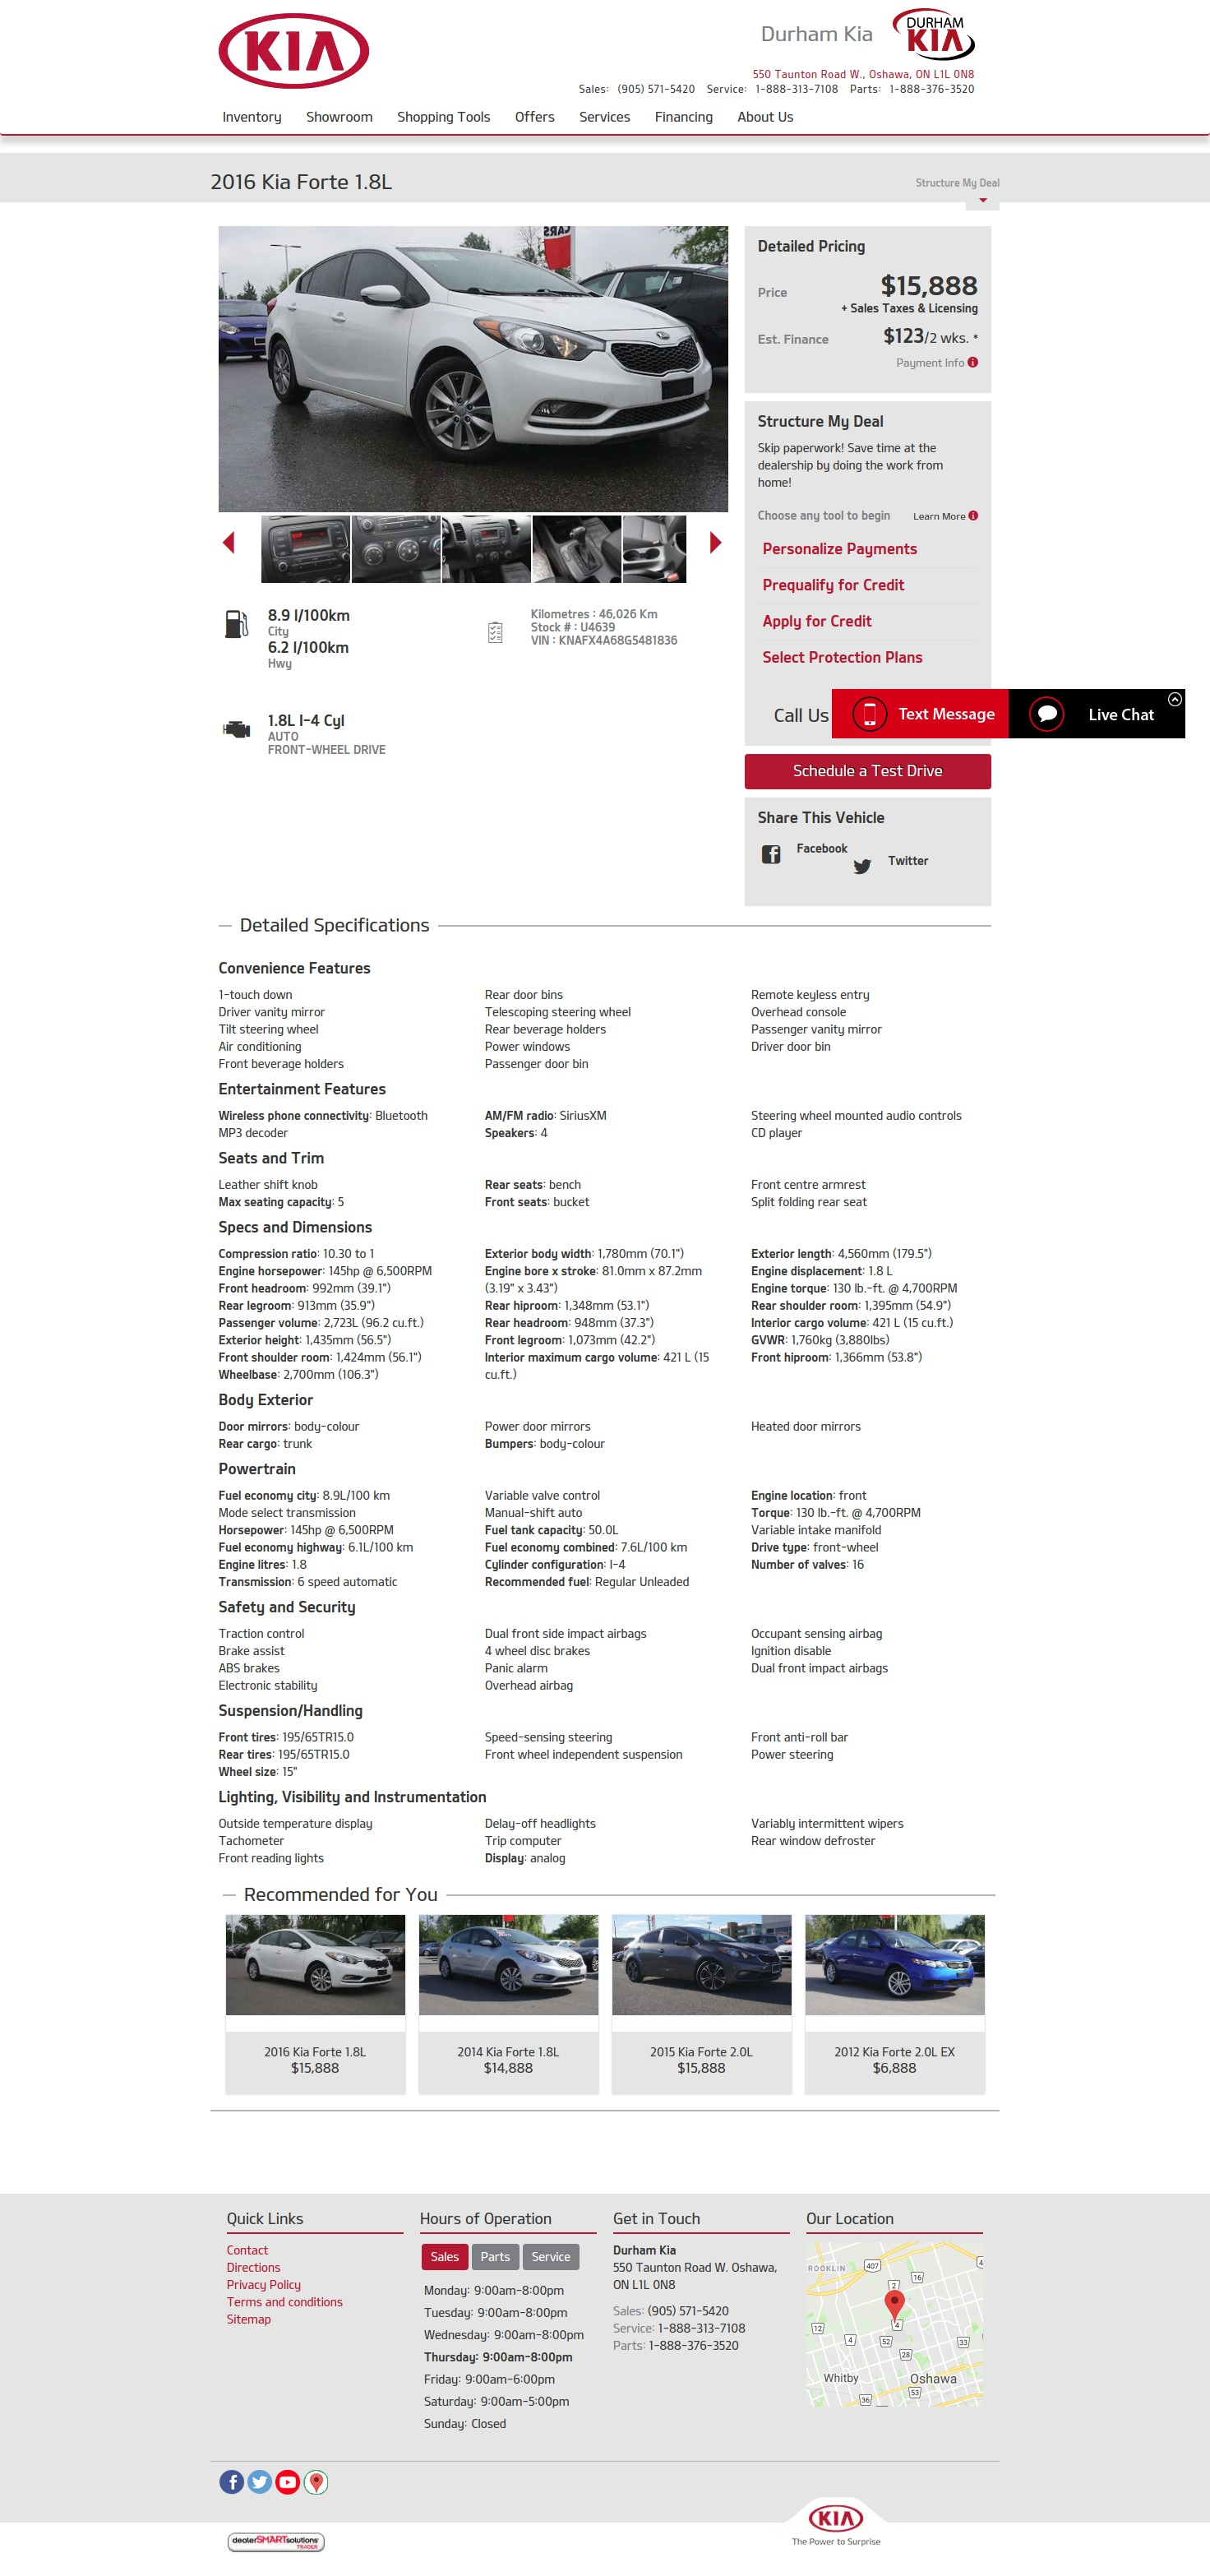car: (711, 532, 724, 554)
